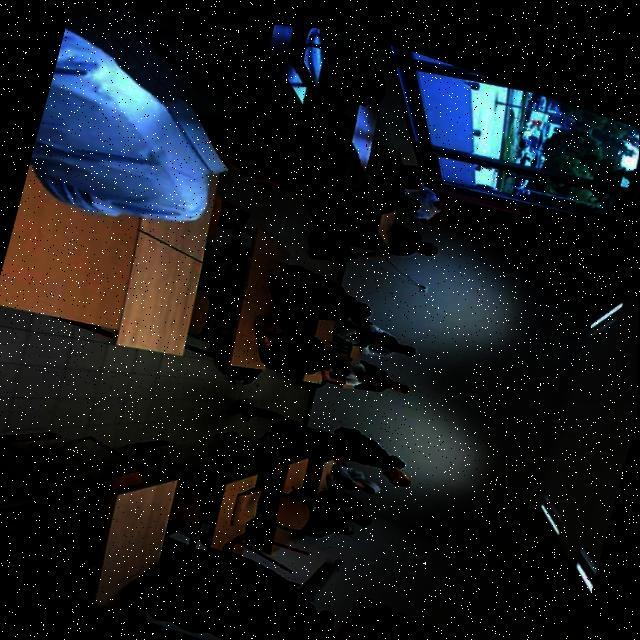phone_use: (255, 307, 359, 385), (335, 295, 398, 351), (310, 477, 370, 531), (303, 490, 370, 535)
